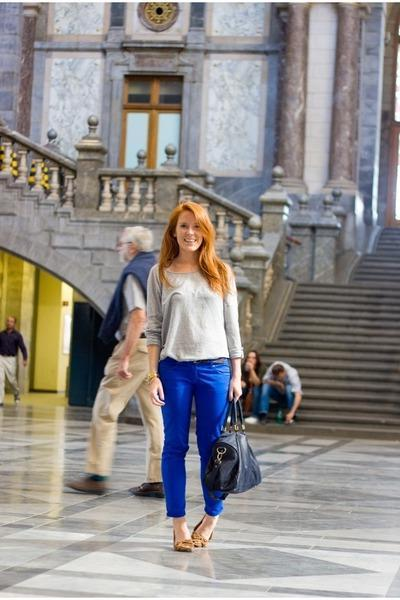long sleeve shirt: (147, 248, 246, 374)
trousers: (151, 347, 239, 522)
